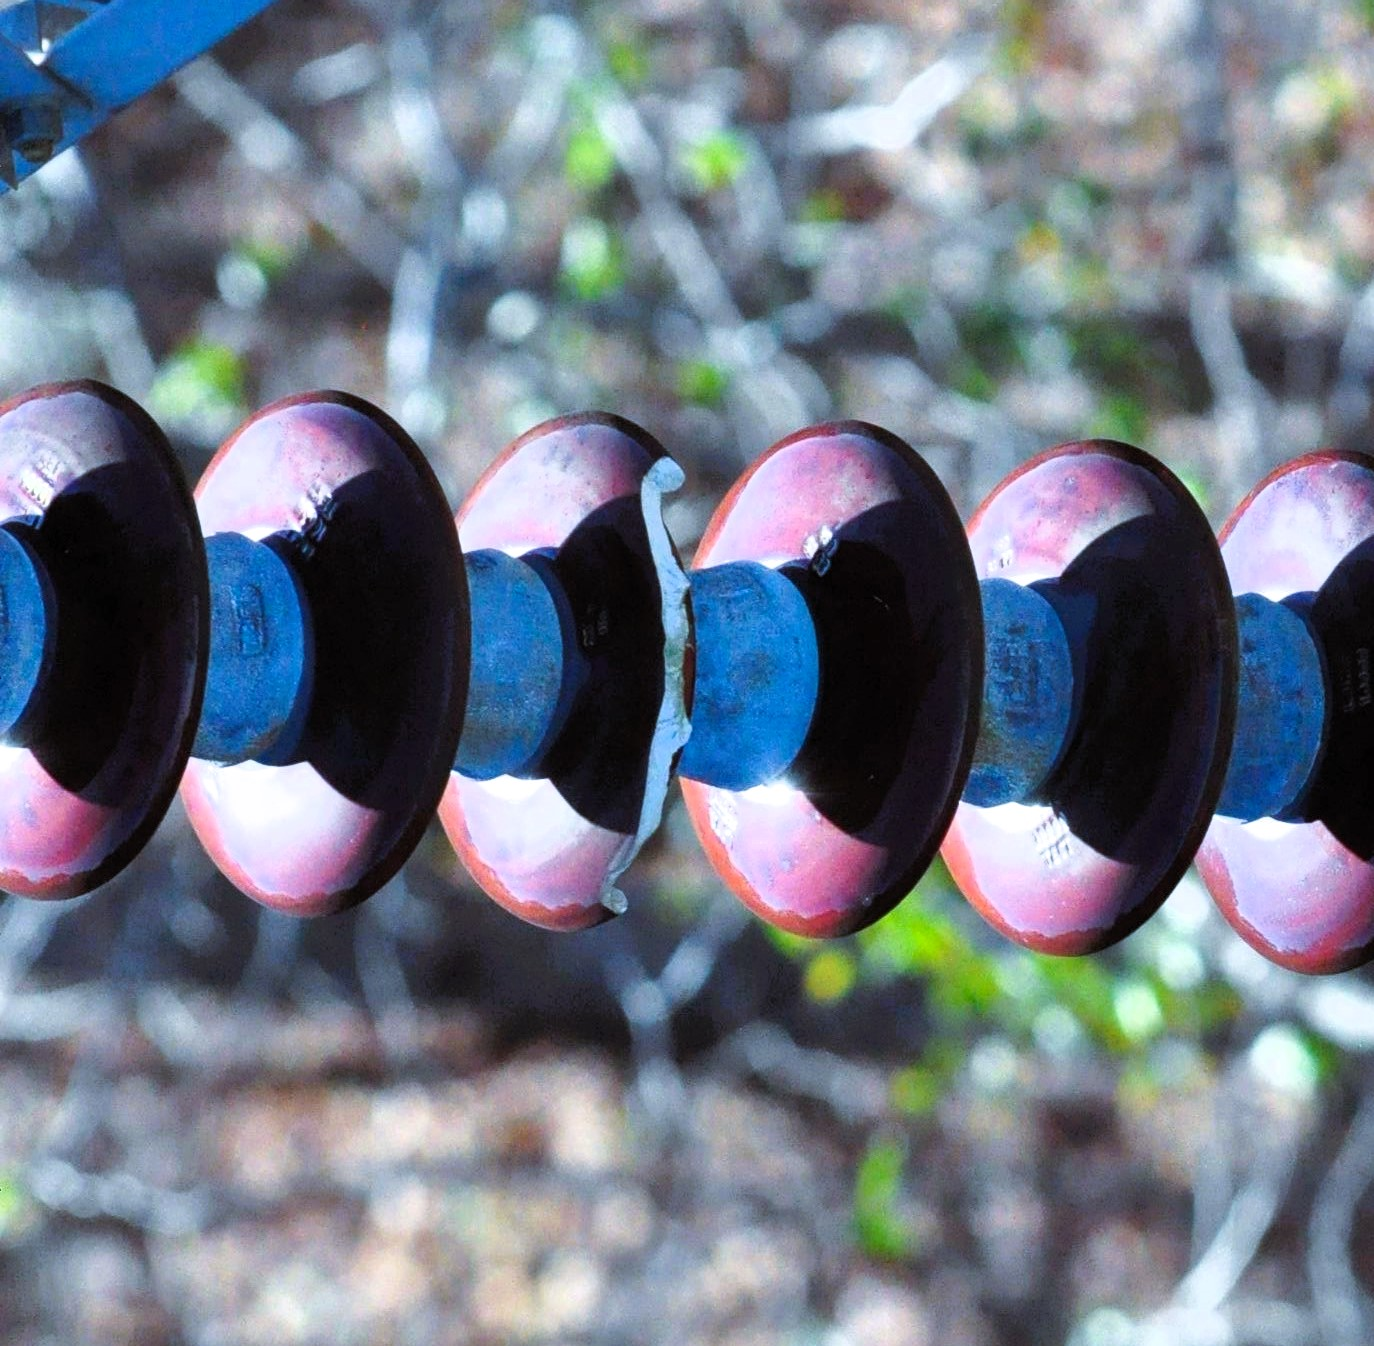insulator breakage: (426, 407, 710, 944)
